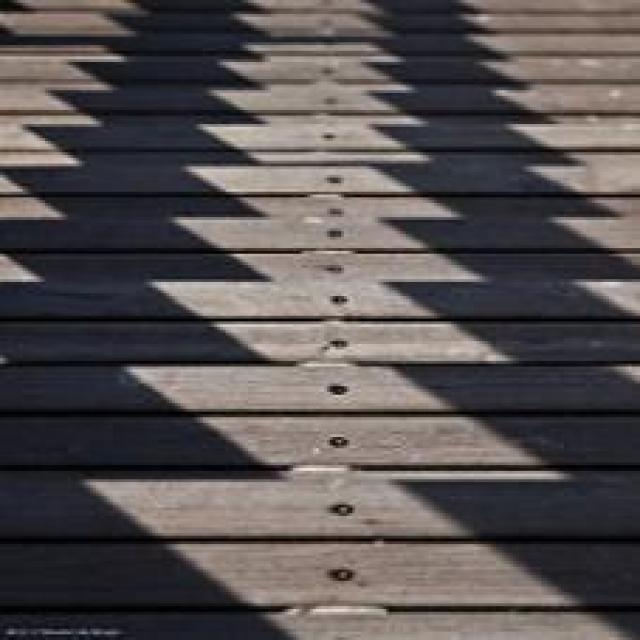upstair: (13, 300, 622, 621)
